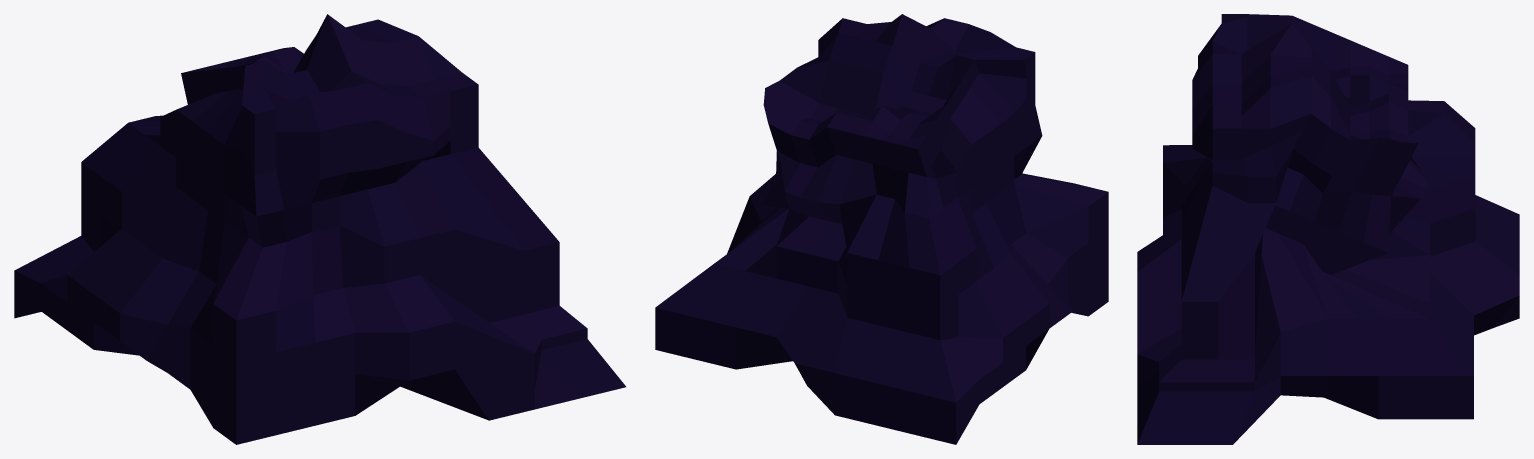
File: Large Oil Rock.fbx
The picture shows the model from 3 angles, left to right: view 1: azimuth 30°, elevation 25°; view 2: azimuth 150°, elevation 25°; view 3: azimuth 270°, elevation 25°; orthographic projection. The views are drawn at different scales.
Visible parts, largest first — view 1: pCube6; view 2: pCube6; view 3: pCube6.
Boxes of the visible parts, <box> form: pCube6: <box>14,14,625,444</box>; pCube6: <box>655,14,1108,444</box>; pCube6: <box>1137,14,1519,444</box>.
Size of the model in its own units: 25.24 by 21.82 by 23.08.
Materials: 1 (1 with a texture image).
